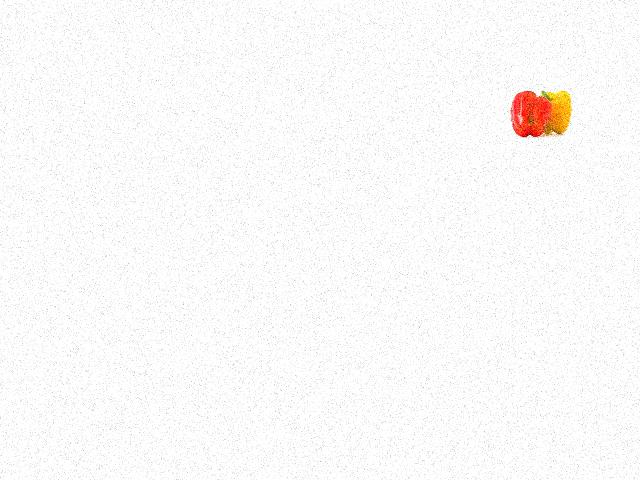bell_pepper: (535, 92, 572, 137)
